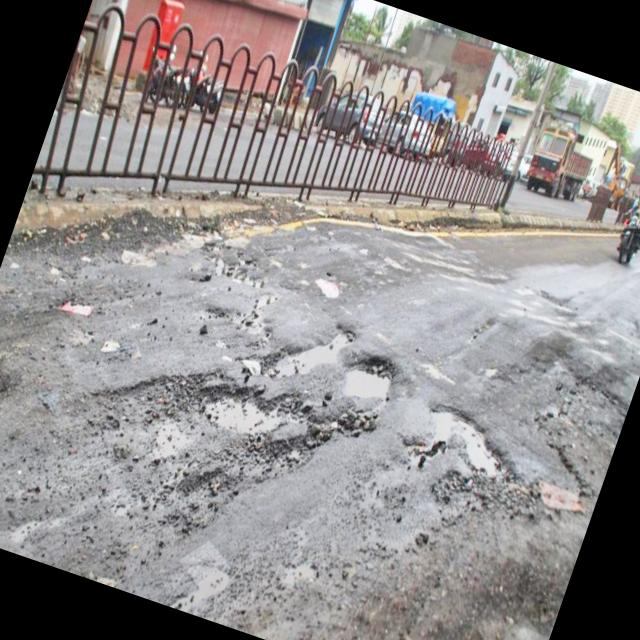Potholes: (88, 253, 427, 571), (390, 376, 618, 586), (0, 341, 51, 475)
